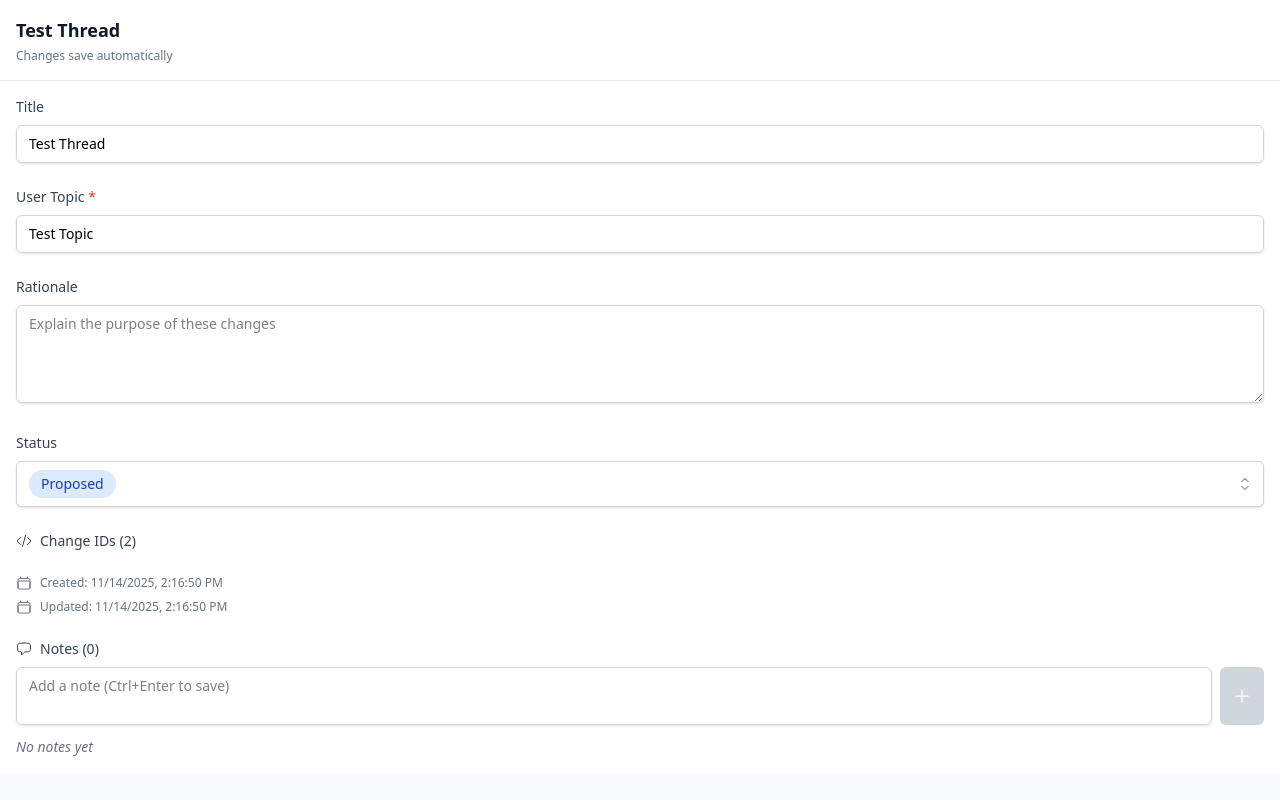
Test: ThreadMetadataPanel › Change IDs debugging › toggles change IDs display
Expected: the text "change-1" is not shown
# Click to show change IDs
Click the button "Change IDs (2)".
click(76, 541)  # box top-left (16, 531), bottom-right (136, 551)
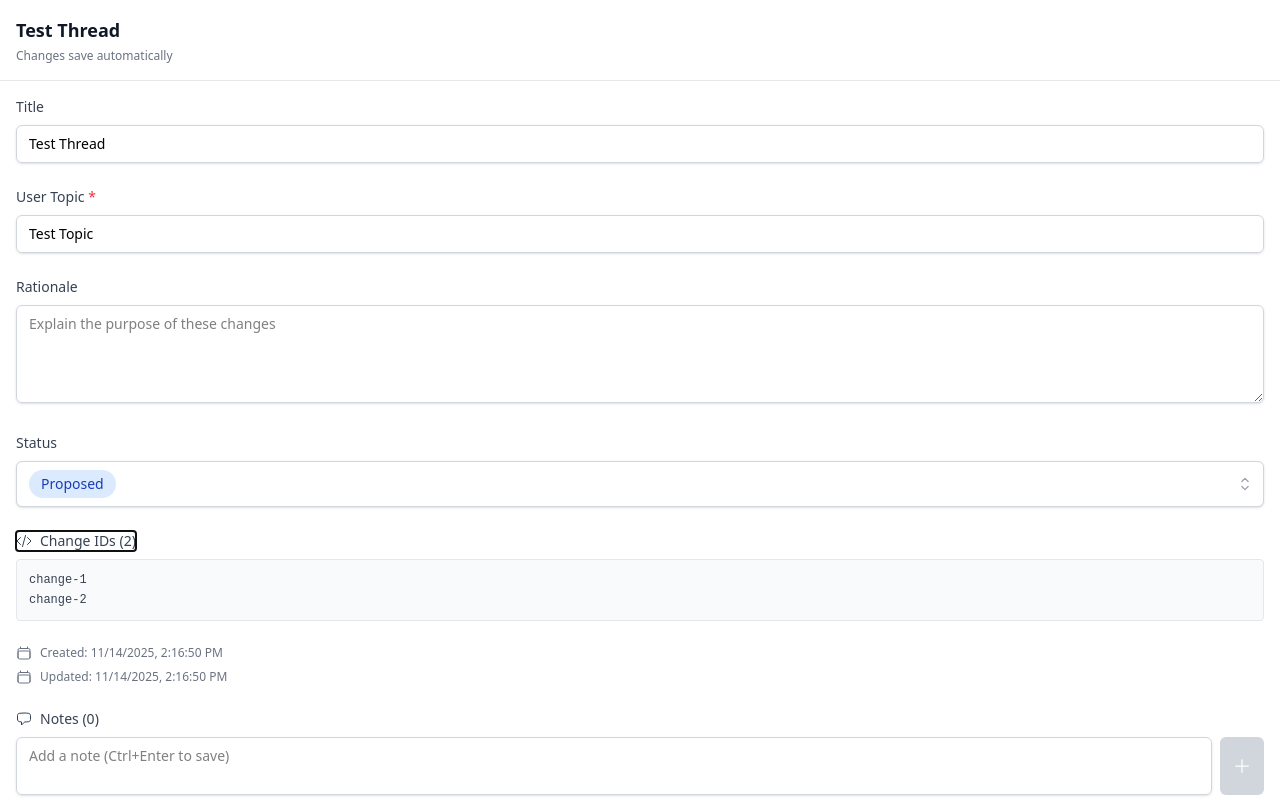
Now the list item "change-1" is shown, box top-left (29, 573), bottom-right (87, 587)
Now the list item "change-2" is shown, box top-left (29, 593), bottom-right (87, 607)
